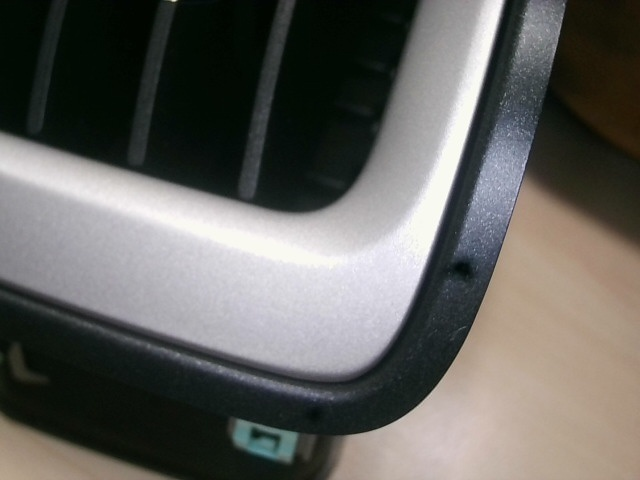NG: (452, 321, 471, 344)
